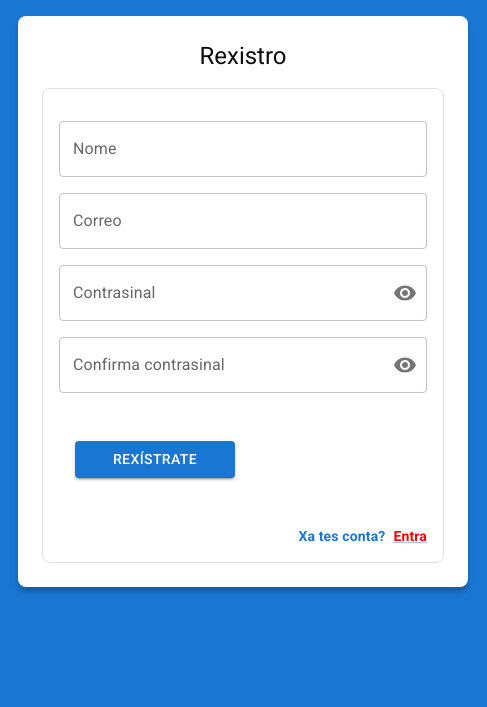
Test: Register Page › should display error message when password is invalid
Type "password" into the password field labelled "Contrasinal". click: [218, 293]
box: x1=59 y1=265 x2=377 y2=321
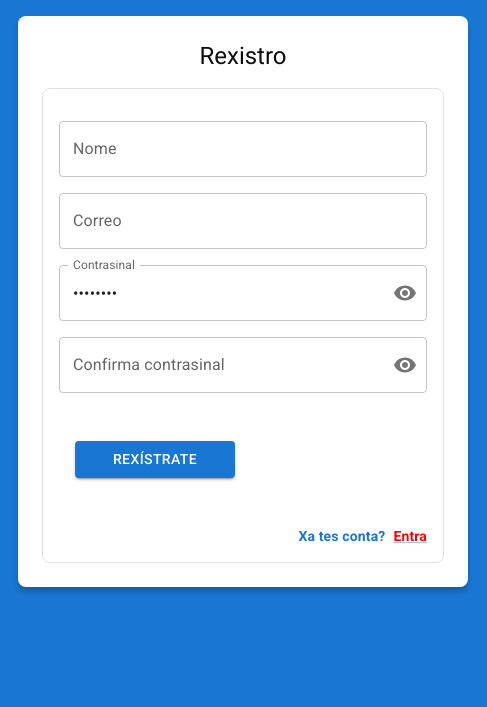
Click the button "Rexístrate". click: [155, 459]
box: x1=75 y1=441 x2=235 y2=478
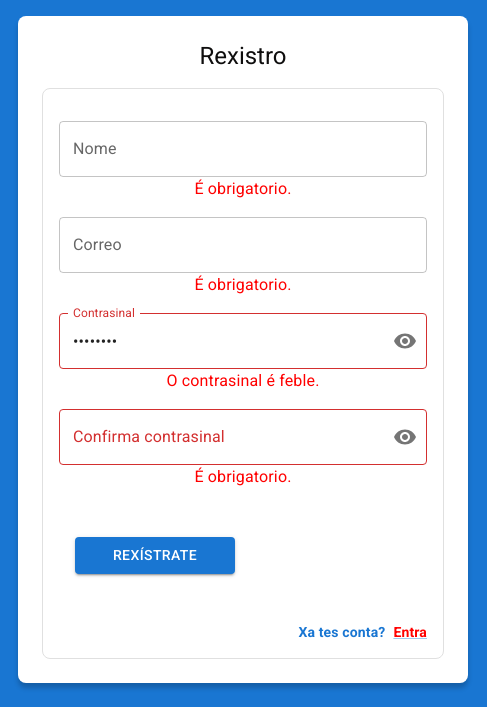
Expected: the text "O contrasinal é feble." is shown, x1=166 y1=371 x2=320 y2=390
